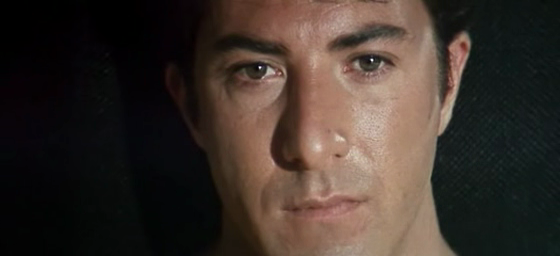ecu: (1, 1, 560, 256)
face: (193, 1, 439, 256)
person: (164, 1, 472, 256)
